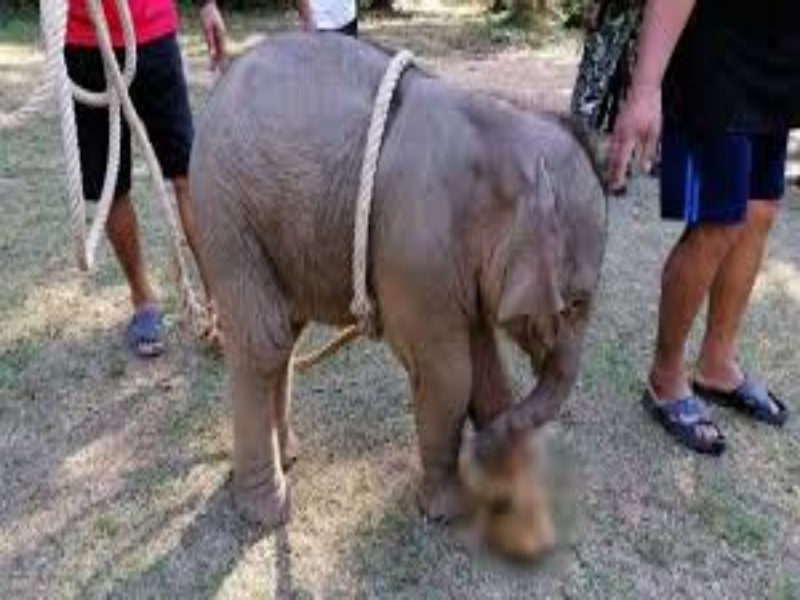elephant: (188, 23, 614, 566)
